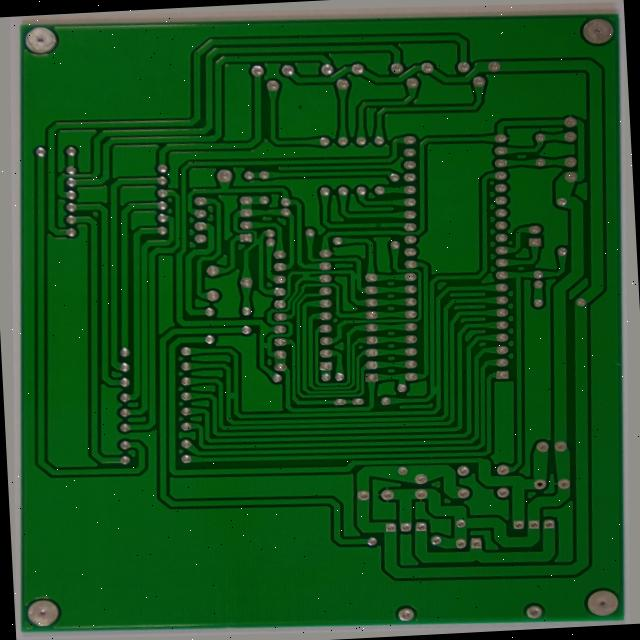short: (346, 266, 364, 282), (435, 380, 451, 396), (255, 339, 271, 354), (224, 392, 240, 407), (296, 268, 312, 282)
